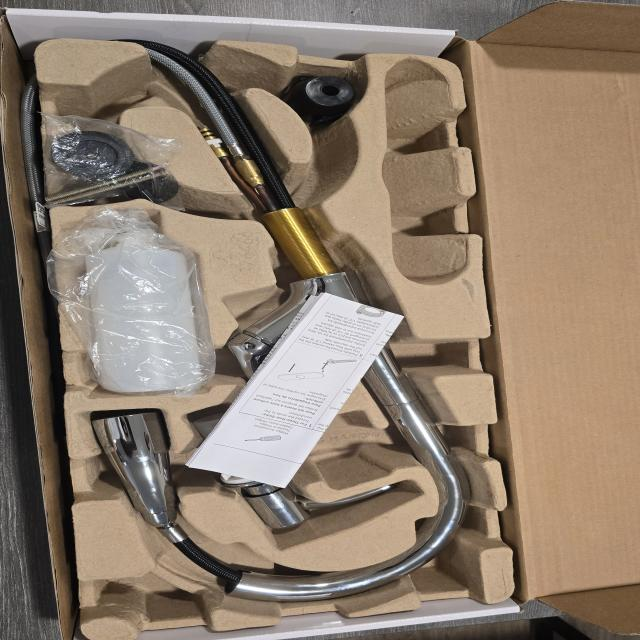1o: (92, 42, 475, 603)
2o: (192, 409, 392, 533)
3: (85, 211, 204, 394)
4m: (383, 59, 470, 285)
5: (282, 76, 361, 124)
6m: (53, 66, 152, 147)
7: (42, 113, 185, 211)
8: (185, 293, 409, 491)
